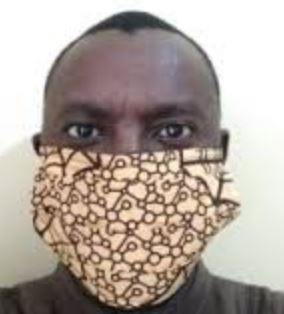with_facemask: (42, 148, 232, 297)
